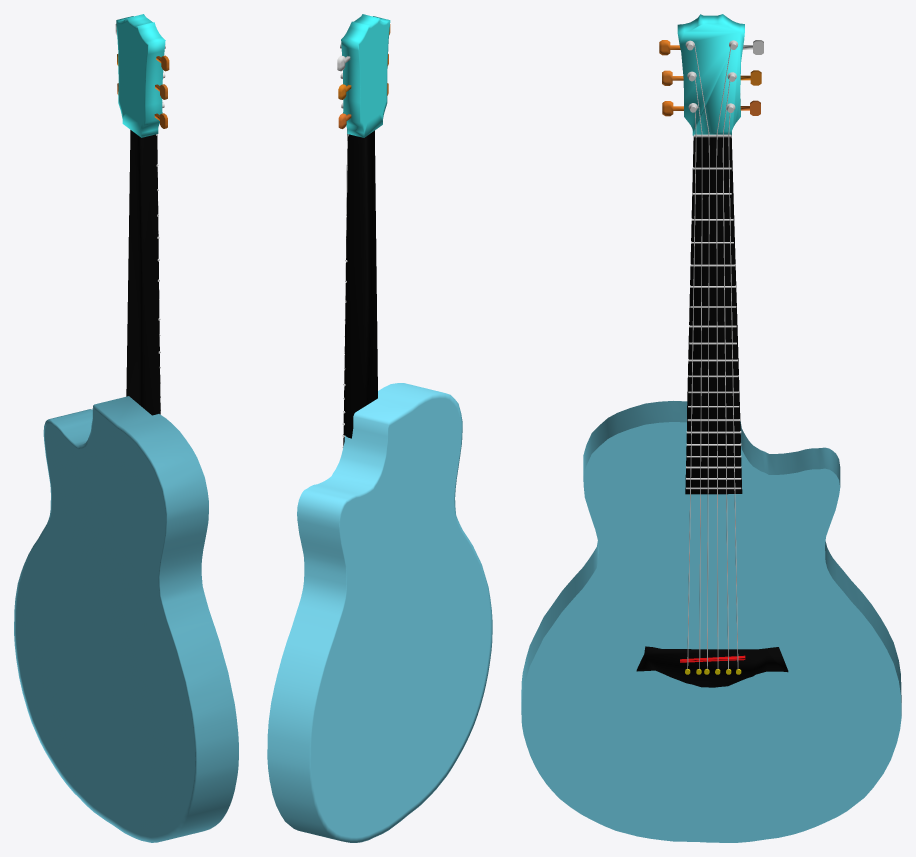
File: Guitar.gltf
The picture shows the model from 3 angles, left to right: view 1: azimuth 30°, elevation 25°; view 2: azimuth 150°, elevation 25°; view 3: azimuth 270°, elevation 25°; orthographic projection. The views are drawn at different scales.
Parts seen in each view (by area): view 1: Plane, Plane.002, Plane.001; view 2: Plane, Plane.002, Plane.001; view 3: Plane, Plane.002, Plane.001, Plane.003, Cylinder, NurbsPath.003, NurbsPath.001, NurbsPath.002, NurbsPath.004, NurbsPath, NurbsPath.005.
Part boxes in pixels (x1,y1,x2,y2): Plane: (14,396,238,842); Plane.002: (126,130,160,415); Plane.001: (116,14,165,137); Plane: (267,383,492,842); Plane.002: (343,130,377,445); Plane.001: (341,14,390,137); Plane: (521,401,901,842); Plane.002: (685,135,742,494); Plane.001: (677,14,744,135); Plane.003: (636,646,788,687); Cylinder: (686,167,741,489); NurbsPath.003: (716,48,730,669); NurbsPath.001: (695,77,702,669); NurbsPath.002: (694,45,709,669); NurbsPath.004: (722,81,730,669); NurbsPath: (687,112,696,669); NurbsPath.005: (728,113,738,669).
Size of the model in its own units: 0.2092 by 3.25 by 1.36.
